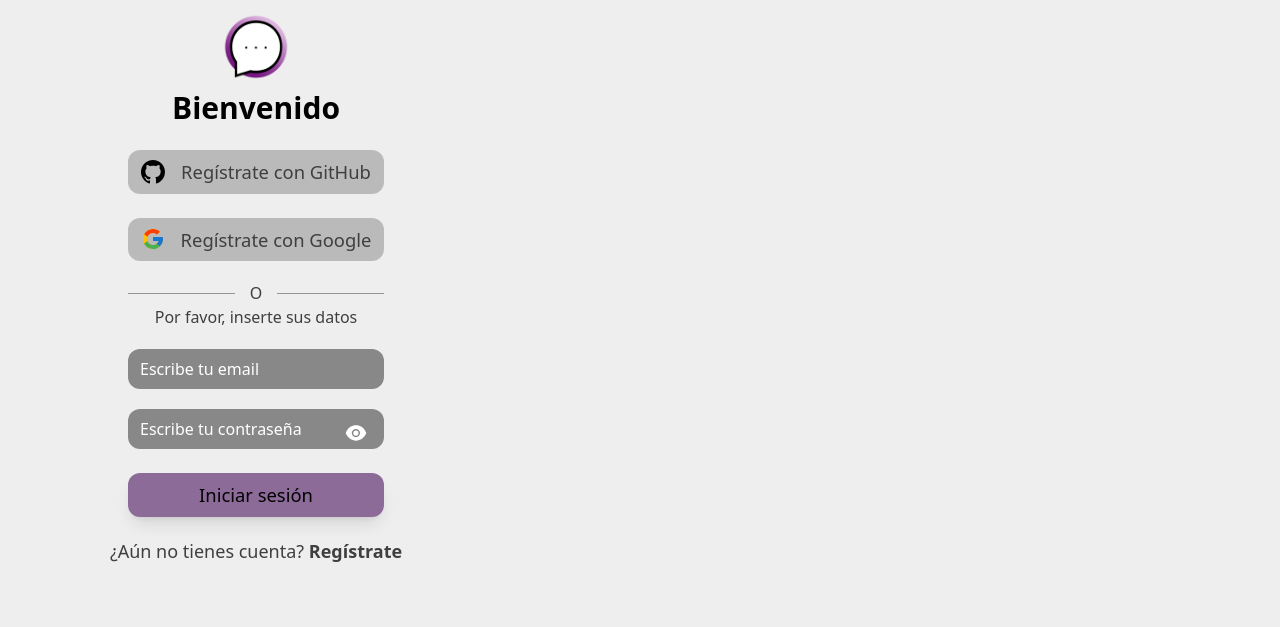
it: Login › Should display an error when password length are less than 6 characters
The image size is (1280, 627).
Type "short" into the password field with placeholder "Escribe tu contraseña" at (256,429), box [128,409,384,449]
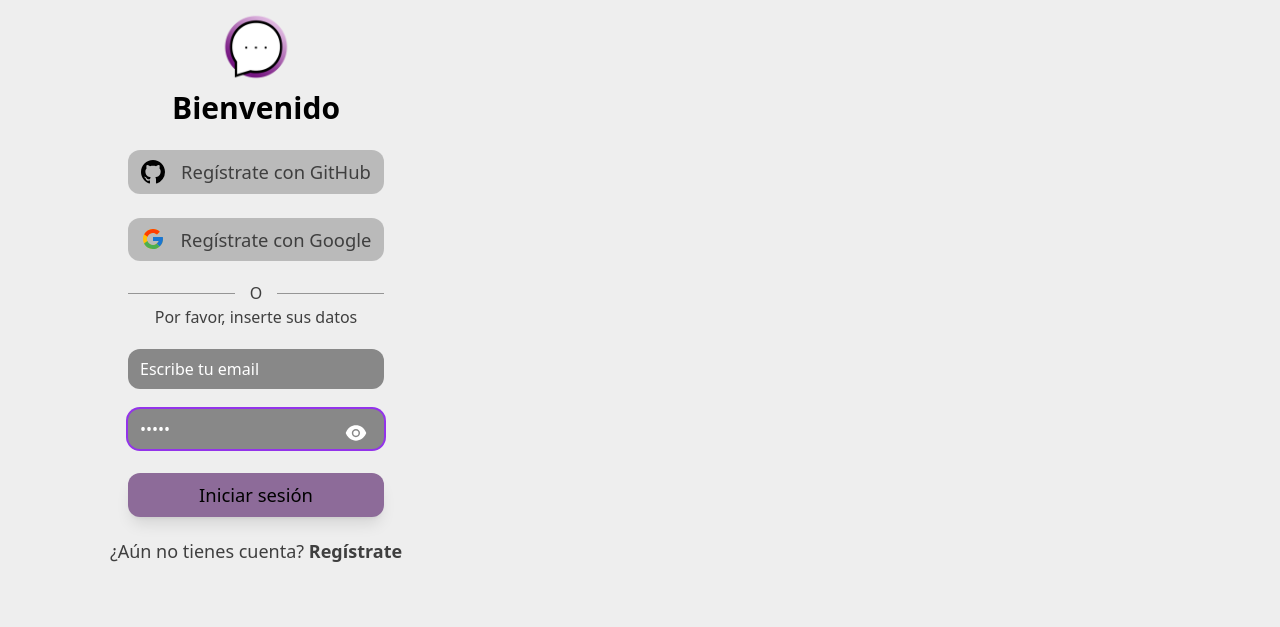
Click the element that starts with "Bienvenido" at (640,288), box [0,12,1279,565]
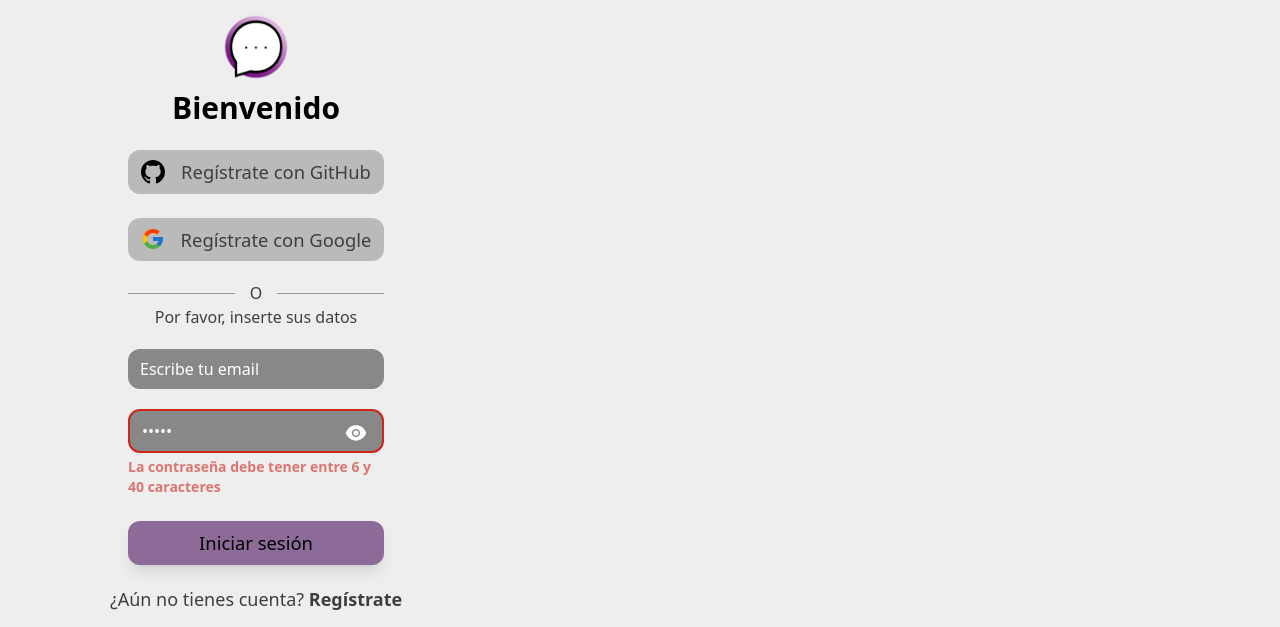
Now the text "La contraseña debe tener entre 6 y 40 caracteres" is shown, box [128,457,384,497]
